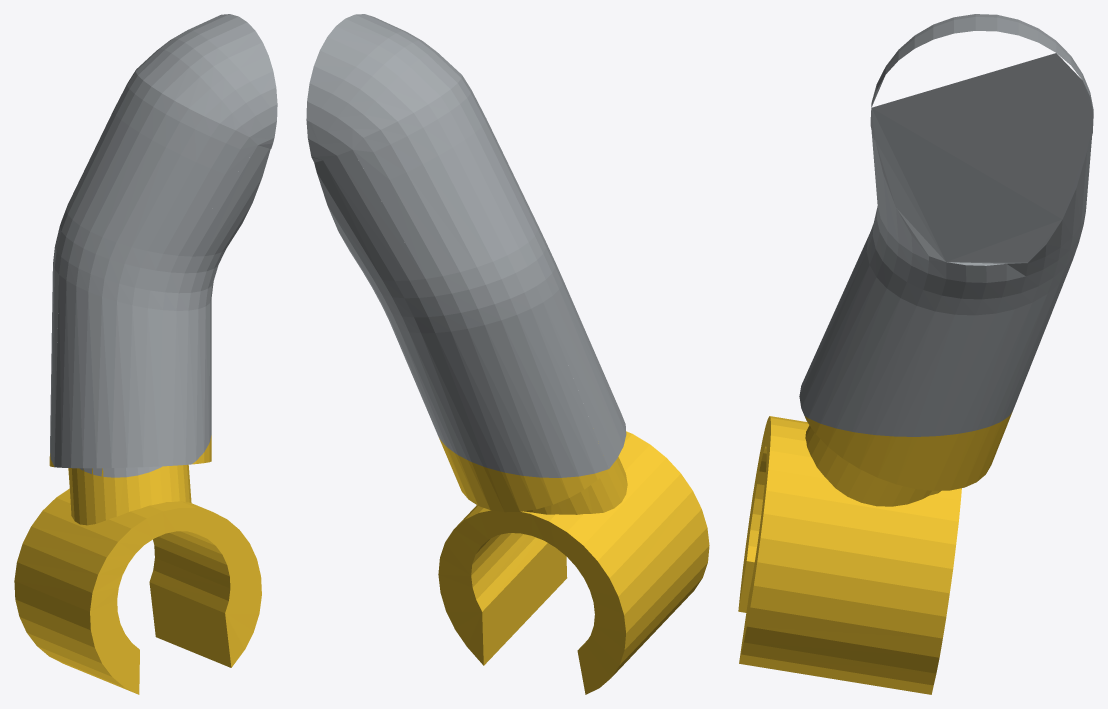
File: armL.glb
3 renders of one model, left to right at view 1: azimuth 30°, elevation 25°; view 2: azimuth 150°, elevation 25°; view 3: azimuth 270°, elevation 25°, orthographic. The views are drawn at different scales.
Visible parts, largest first — view 1: knight_armL; view 2: knight_armL; view 3: knight_armL.
Boxes of the visible parts, x1,y1,x2,y2 form: knight_armL: (14,14,277,694); knight_armL: (306,14,709,694); knight_armL: (738,14,1093,694).
Bounding box in the file's own units: 0.325 × 0.7369 × 0.322.
